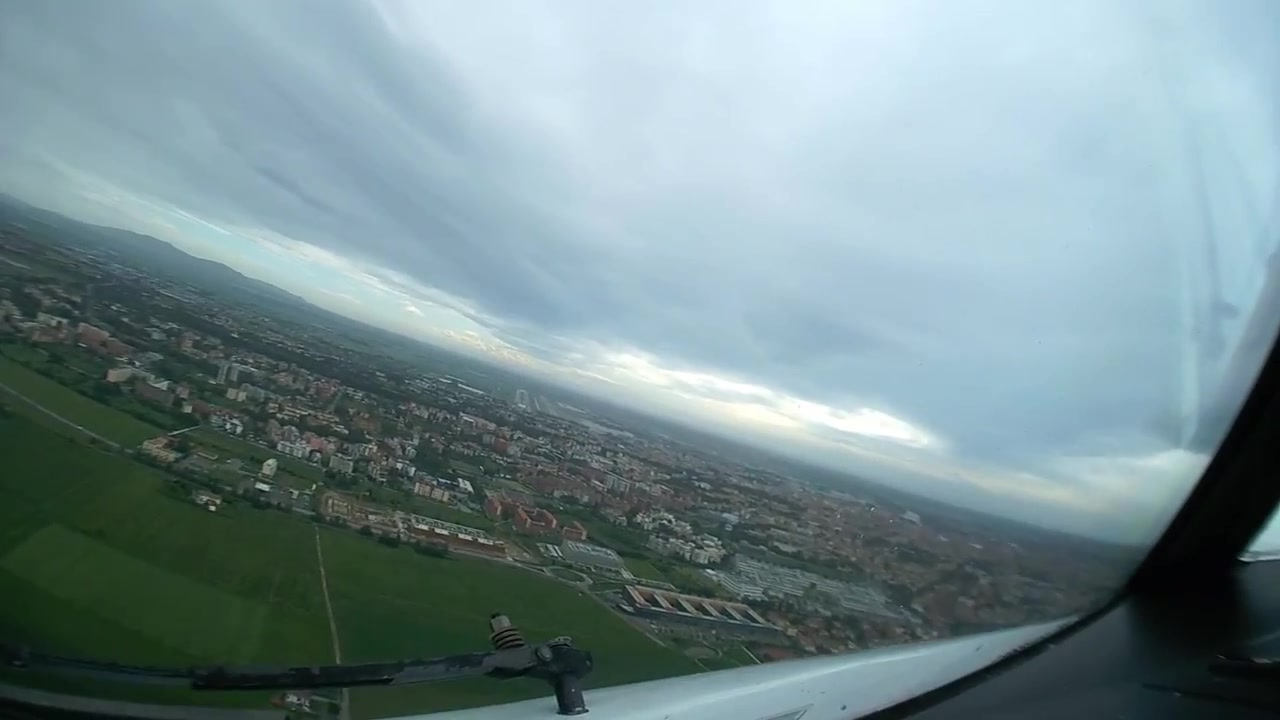runway: (514, 388, 529, 409)
